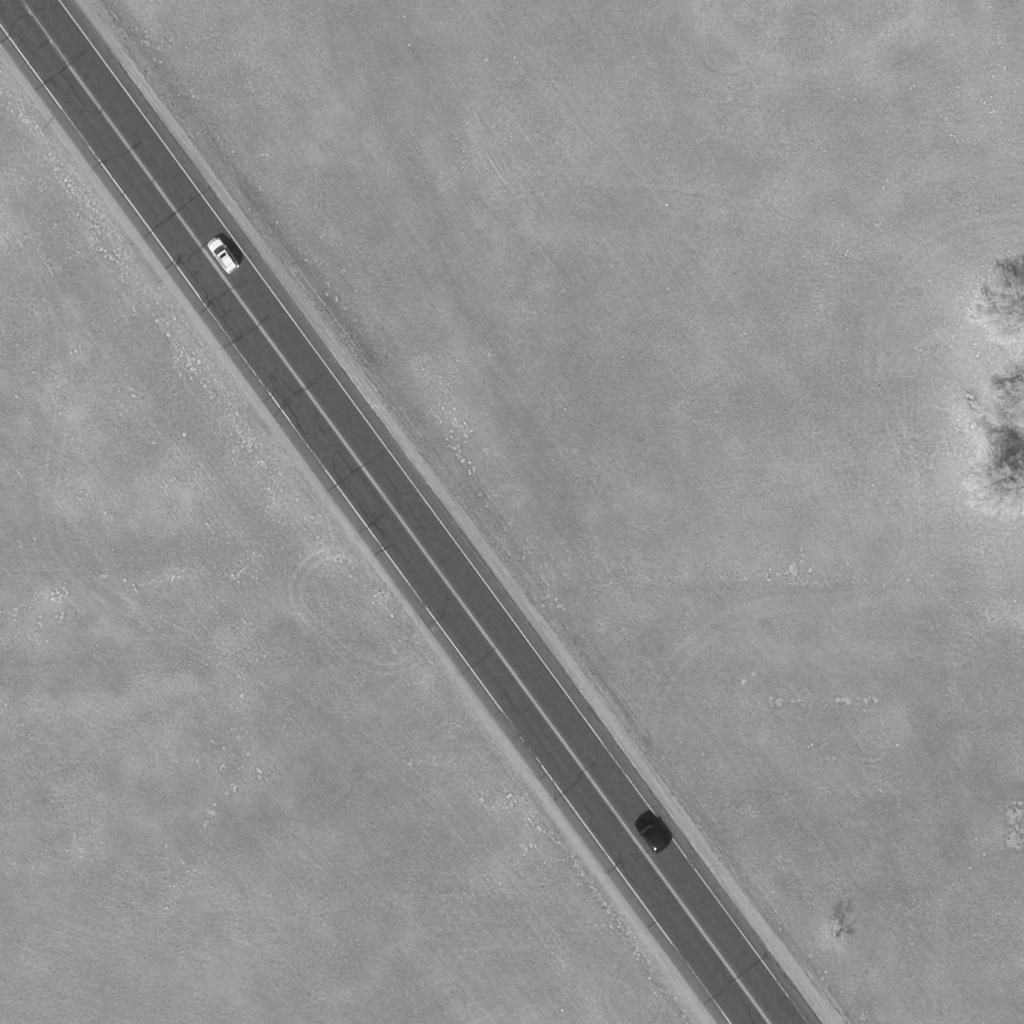vehicle: (633, 814, 671, 854), (206, 237, 242, 275)
